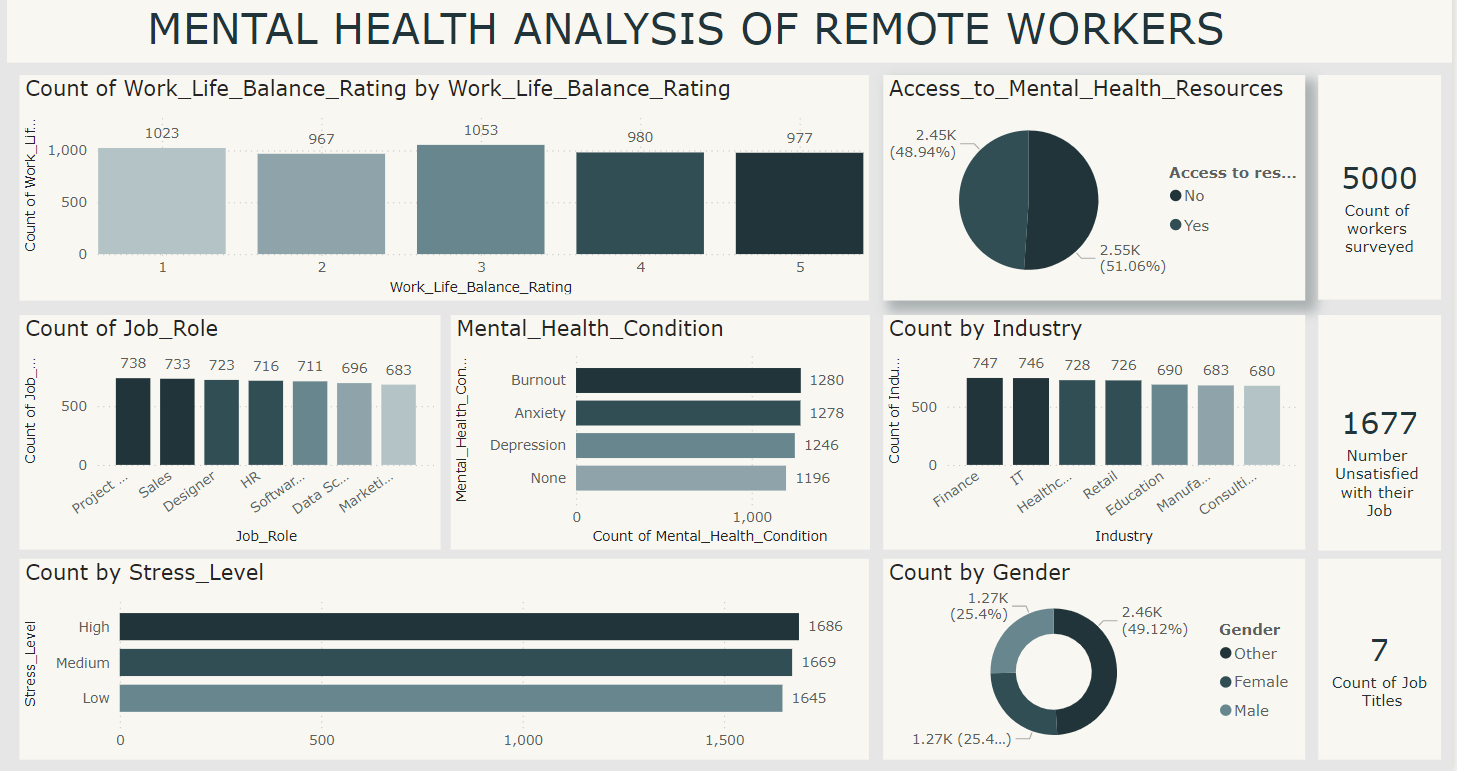

What the dashboard file says about the page in this screenshot:
{"tool":"powerbi","page":{"name":"Page 1","canvas":[1280,720],"ordinal":0},"visuals":[{"type":"pieChart","title":"Access_to_Mental_Health_Resources ","fields":{"Category":["Impact_of_Remote_Work_on_Mental.Access_to_Mental_Health_Resources"],"Y":["CountNonNull(Impact_of_Remote_Work_on_Mental.Access_to_Mental_Health_Resources)"]},"box":[779.5,105.6,371.4,198.1],"z":0},{"type":"donutChart","title":"Count by Gender","fields":{"Category":["Impact_of_Remote_Work_on_Mental.Gender"],"Y":["CountNonNull(Impact_of_Remote_Work_on_Mental.Gender)"]},"box":[779.5,531.6,371.4,176.8],"z":1000},{"type":"barChart","title":"Mental_Health_Condition ","fields":{"Category":["Impact_of_Remote_Work_on_Mental.Mental_Health_Condition"],"Y":["CountNonNull(Impact_of_Remote_Work_on_Mental.Mental_Health_Condition)"]},"box":[398.7,316.8,369,206.5],"z":2000},{"type":"barChart","title":"Count by Stress_Level","fields":{"Category":["Impact_of_Remote_Work_on_Mental.Stress_Level"],"Y":["CountNonNull(Impact_of_Remote_Work_on_Mental.Stress_Level)"]},"box":[20.2,531.6,747.5,176.8],"z":3000},{"type":"columnChart","title":"Count by Industry","fields":{"Category":["Impact_of_Remote_Work_on_Mental.Industry"],"Y":["CountNonNull(Impact_of_Remote_Work_on_Mental.Industry)"]},"box":[779.5,316.8,371.4,206.5],"z":4000},{"type":"clusteredColumnChart","title":"Count of Job_Role ","fields":{"Category":["Impact_of_Remote_Work_on_Mental.Job_Role"],"Y":["CountNonNull(Impact_of_Remote_Work_on_Mental.Job_Role)"]},"box":[20.2,316.8,370.2,206.5],"z":5000},{"type":"columnChart","fields":{"Y":["CountNonNull(Impact_of_Remote_Work_on_Mental.Work_Life_Balance_Rating)"],"Category":["Impact_of_Remote_Work_on_Mental.Work_Life_Balance_Rating"]},"box":[20.2,105.6,747.5,198.1],"z":6000},{"type":"textbox","box":[8.8,36.3,1271.1,58.3],"z":7000},{"type":"card","fields":{"Values":["CountNonNull(Impact_of_Remote_Work_on_Mental.Satisfaction_with_Remote_Work)"]},"box":[1162.8,316.3,108.1,207],"z":8000},{"type":"card","fields":{"Values":["CountNonNull(Impact_of_Remote_Work_on_Mental.Employee_ID)"]},"box":[1162.8,105.8,108.1,197.7],"z":9000},{"type":"card","fields":{"Values":["Count(Impact_of_Remote_Work_on_Mental.Job_Role)"]},"box":[1162.8,531.4,108.1,176.7],"z":10000}]}

Visuals, with their boxes on the page's 1280x720 design canvas (x1, y1, x2, y2). These are canvas units, not pixel positions in the 1457x771 screenshot, which may show the page scaled, cropped or inside an application window:
"Access_to_Mental_Health_Resources " pieChart: select_region(780, 106, 1151, 304)
"Count by Gender" donutChart: select_region(780, 532, 1151, 708)
"Mental_Health_Condition " barChart: select_region(399, 317, 768, 523)
"Count by Stress_Level" barChart: select_region(20, 532, 768, 708)
"Count by Industry" columnChart: select_region(780, 317, 1151, 523)
"Count of Job_Role " clusteredColumnChart: select_region(20, 317, 390, 523)
columnChart - CountNonNull(Impact_of_Remote_Work_on_Mental.Work_Life_Balance_Rating) x Impact_of_Remote_Work_on_Mental.Work_Life_Balance_Rating: select_region(20, 106, 768, 304)
textbox: select_region(9, 36, 1280, 95)
card - CountNonNull(Impact_of_Remote_Work_on_Mental.Satisfaction_with_Remote_Work): select_region(1163, 316, 1271, 523)
card - CountNonNull(Impact_of_Remote_Work_on_Mental.Employee_ID): select_region(1163, 106, 1271, 304)
card - Count(Impact_of_Remote_Work_on_Mental.Job_Role): select_region(1163, 531, 1271, 708)
